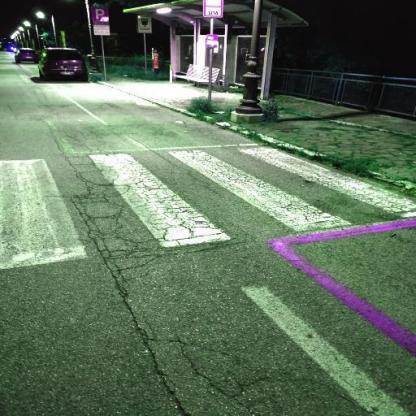crosswalk: (78, 134, 358, 262)
